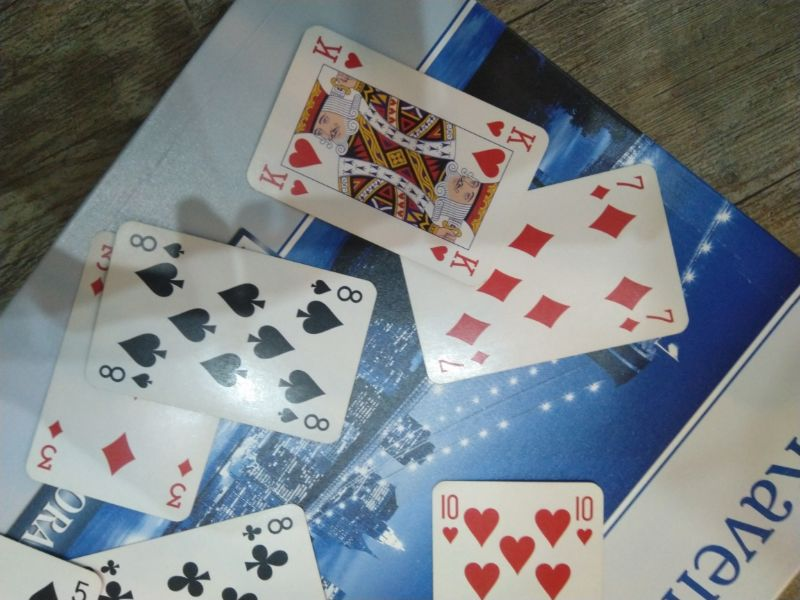3d: (164, 456, 196, 512), (35, 418, 67, 474), (88, 241, 117, 298)
7d: (588, 171, 649, 203), (435, 347, 494, 376), (618, 305, 679, 333)
8c: (238, 514, 297, 543)
8s: (125, 230, 190, 261), (96, 361, 157, 392), (275, 403, 333, 434), (306, 276, 365, 306)
Kh: (309, 30, 365, 71), (256, 161, 312, 201), (483, 114, 539, 154), (428, 240, 483, 279)
Th: (437, 490, 461, 548), (572, 492, 596, 548)
